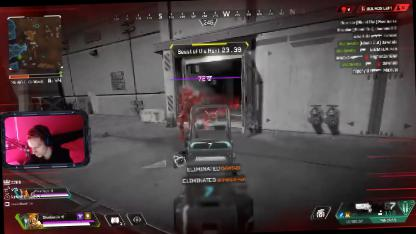Target: (172, 84, 198, 134)
